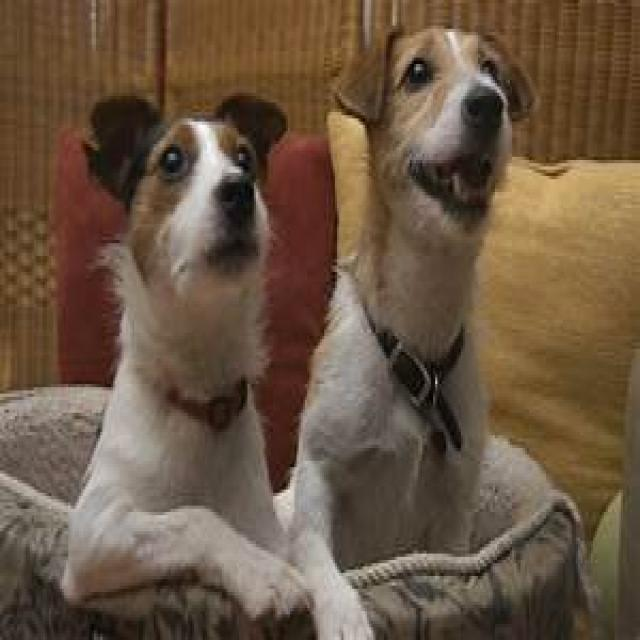KOPEK: (63, 67, 304, 636), (307, 11, 516, 640)
